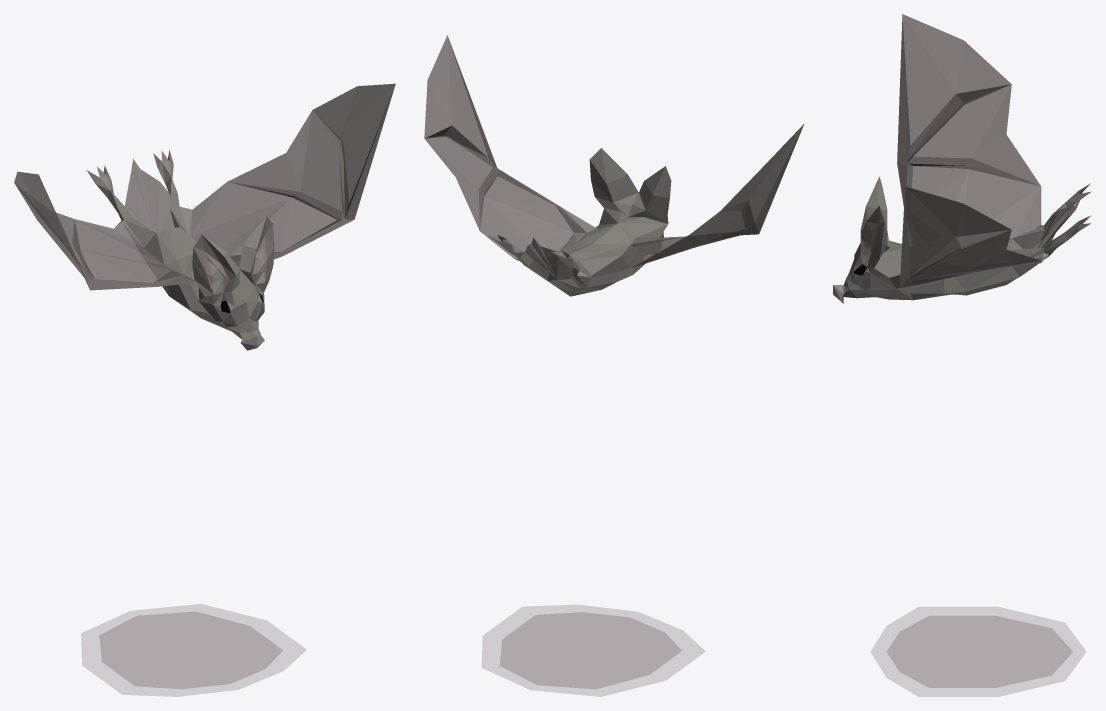
File: giant_bat.glb
The picture shows the model from 3 angles, left to right: view 1: azimuth 30°, elevation 25°; view 2: azimuth 150°, elevation 25°; view 3: azimuth 270°, elevation 25°; orthographic projection.
Bounding box in the file's own units: 155 × 258 × 97.
Materials: 2 (2 with a texture image).
